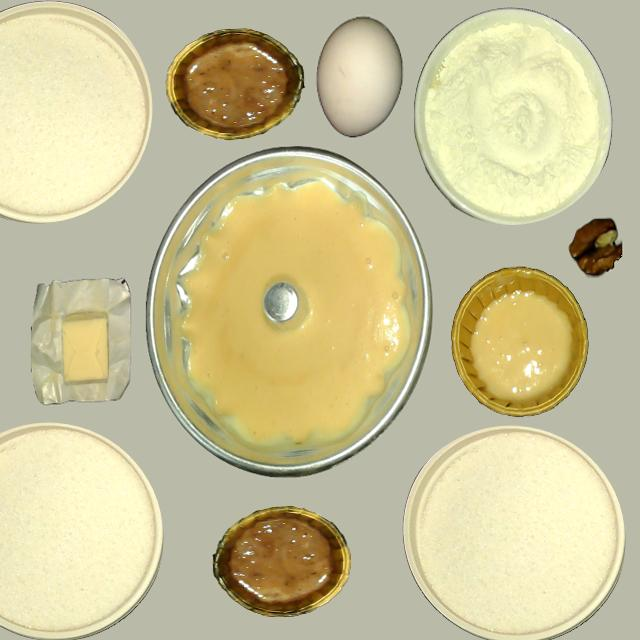Flour: (420, 15, 607, 223)
Sugar: (414, 434, 615, 636), (1, 429, 153, 635), (2, 12, 142, 219)
